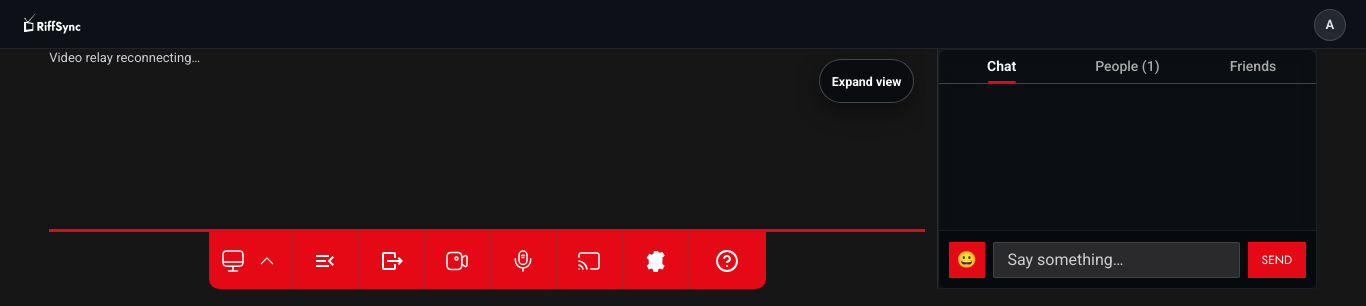
Test: RoomPage host theater chrome › hides the host theater bar in expanded view
Check: the element with class "riffsync-host-theater-bar" is shown, box 49,229 -> 925,289
Click the button "Expand view".
click(867, 81)  # box 819,59 -> 914,103
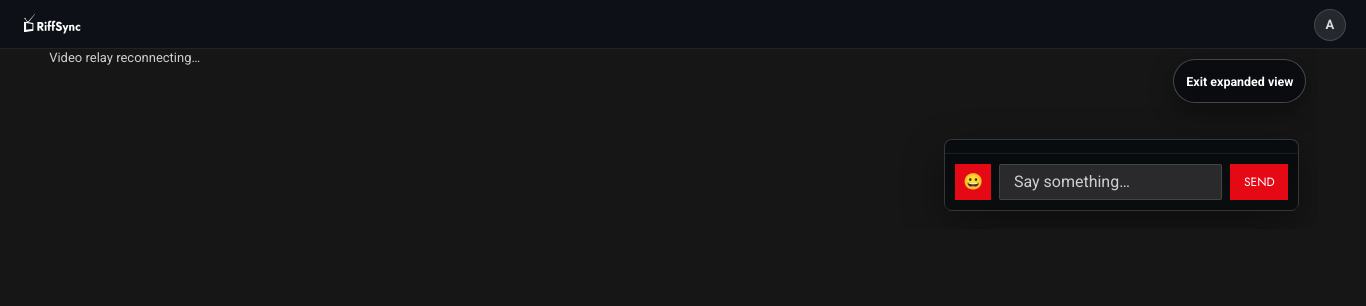
Check: the element with class "riffsync-room-page__theater--expanded" is shown, box 49,49 -> 1317,229
Check: the element with class "riffsync-host-theater-bar" is gone
Check: the element with class "riffsync-room-page__chat--overlay" is shown, box 944,139 -> 1299,211
